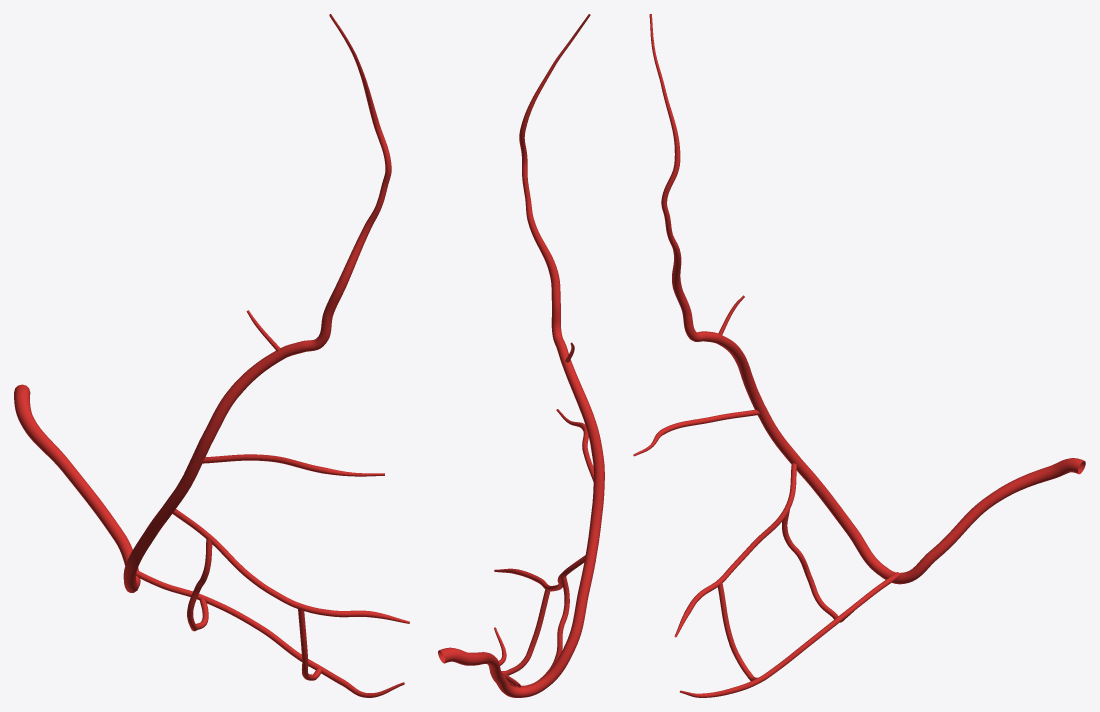
The model's file is circulatorio-facial-vein-r.glb.
3 views of the same model, side by side, from view 1: azimuth 30°, elevation 25°; view 2: azimuth 150°, elevation 25°; view 3: azimuth 270°, elevation 25° (orthographic). The views are drawn at different scales.
Visible parts, largest first — view 1: Facial vein.r, Angular vein.r, Inferior labial veins.r, Submental vein.r, Superior labial vein.r; view 2: Facial vein.r, Angular vein.r, Inferior labial veins.r, Superior labial vein.r; view 3: Facial vein.r, Angular vein.r, Inferior labial veins.r, Submental vein.r, Superior labial vein.r.
Boxes of the visible parts, x1=… form: Facial vein.r: x1=14, y1=384, x2=239, y2=592; Angular vein.r: x1=230, y1=14, x2=391, y2=395; Inferior labial veins.r: x1=172, y1=509, x2=409, y2=680; Submental vein.r: x1=136, y1=571, x2=404, y2=697; Superior labial vein.r: x1=202, y1=454, x2=384, y2=476; Facial vein.r: x1=438, y1=409, x2=604, y2=697; Angular vein.r: x1=519, y1=14, x2=591, y2=413; Inferior labial veins.r: x1=494, y1=555, x2=585, y2=686; Superior labial vein.r: x1=556, y1=409, x2=593, y2=481; Facial vein.r: x1=735, y1=357, x2=1085, y2=584; Angular vein.r: x1=649, y1=14, x2=745, y2=362; Inferior labial veins.r: x1=674, y1=463, x2=853, y2=680; Submental vein.r: x1=679, y1=572, x2=900, y2=697; Superior labial vein.r: x1=633, y1=409, x2=759, y2=456.
Size of the model in its own units: 0.0347 by 0.1271 by 0.0795.
